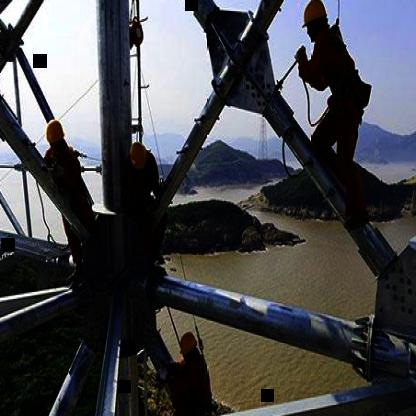helmet: (301, 0, 333, 47), (44, 115, 67, 152), (178, 329, 200, 362), (129, 140, 147, 174)
